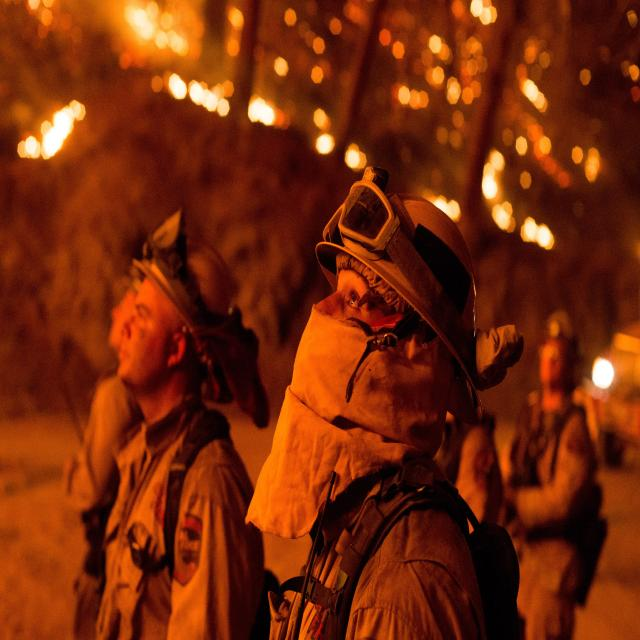Fire: (419, 35, 582, 248), (180, 58, 294, 132), (31, 72, 108, 178)
